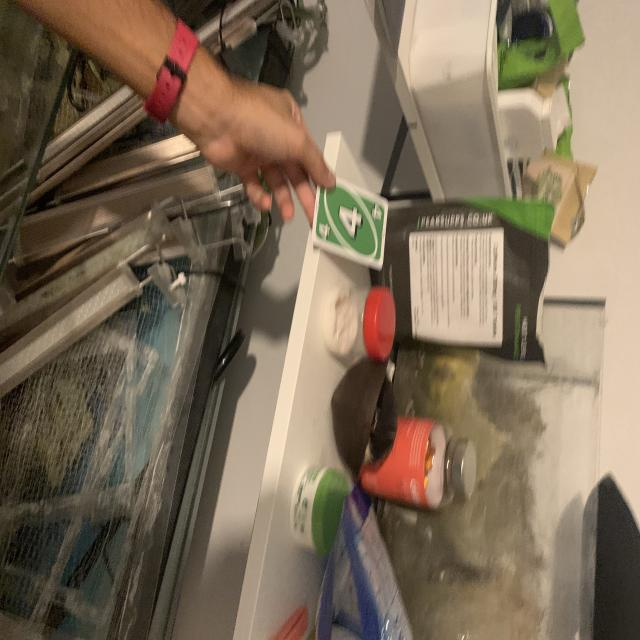lgreen-4: (367, 200, 382, 222)
